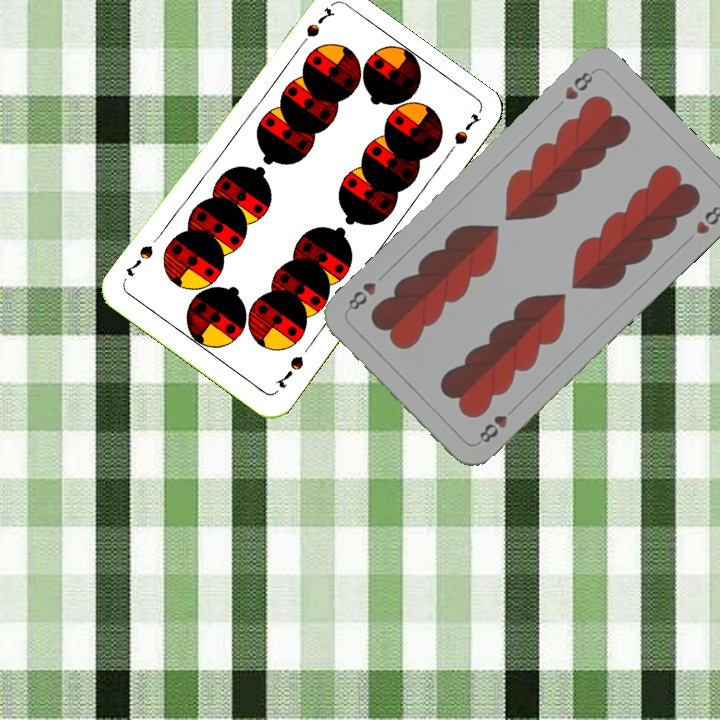H8: (475, 401, 520, 446), (560, 66, 598, 103)
S7: (293, 3, 337, 53), (271, 351, 307, 391)
